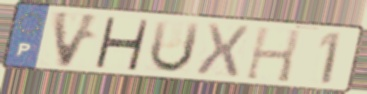1: (316, 29, 343, 87)
H: (242, 25, 304, 85), (92, 15, 152, 72)
U: (146, 19, 203, 75)
V: (50, 9, 104, 70)
X: (192, 21, 252, 79)
